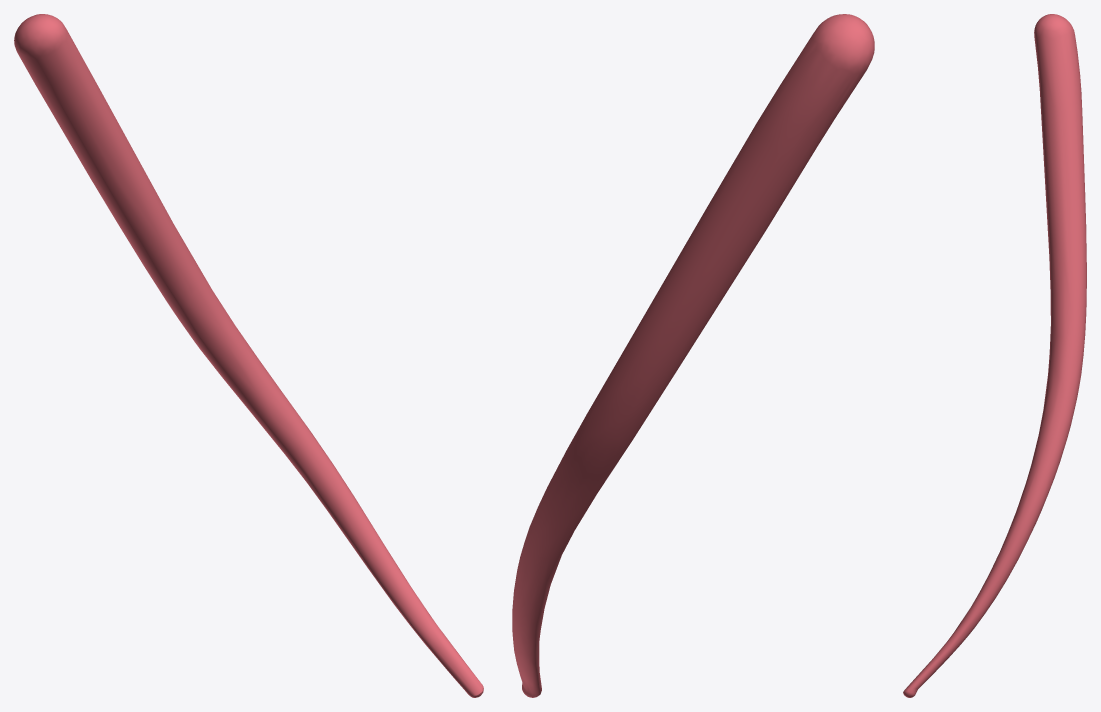
File: fma8646_fj2921.glb
3 views of the same model, side by side, from view 1: azimuth 30°, elevation 25°; view 2: azimuth 150°, elevation 25°; view 3: azimuth 270°, elevation 25° (orthographic). The views are drawn at different scales.
Visible parts, largest first — view 1: FMA8646_FJ2921; view 2: FMA8646_FJ2921; view 3: FMA8646_FJ2921.
Boxes of the visible parts, x1,y1,x2,y2 form: FMA8646_FJ2921: [14, 14, 483, 697]; FMA8646_FJ2921: [512, 14, 874, 697]; FMA8646_FJ2921: [903, 14, 1086, 697].
Size of the model in its own units: 0.0608 by 0.1089 by 0.033.
